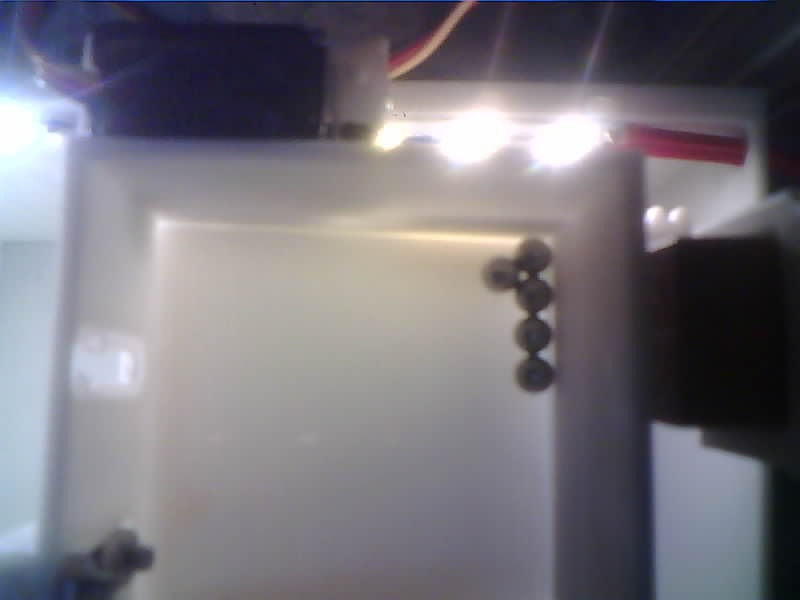Metal: (514, 317, 554, 357), (514, 359, 557, 396), (516, 276, 553, 312), (514, 241, 552, 276), (486, 256, 519, 290)
